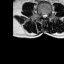CCS_severe_stenosis: (43, 12, 45, 20)
LFS_normal: (47, 10, 49, 17)
LLS_normal: (45, 12, 47, 18)
RFS_normal: (39, 11, 41, 17)
RLS_normal: (41, 12, 43, 18)
